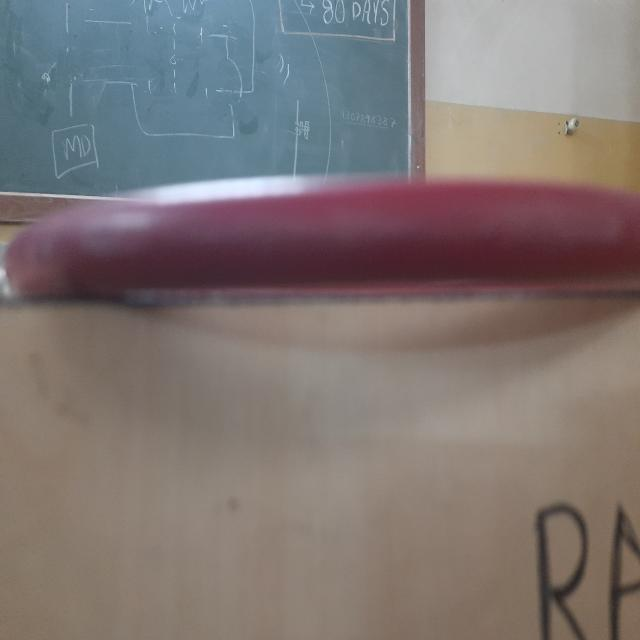daire: (29, 186, 640, 288)
